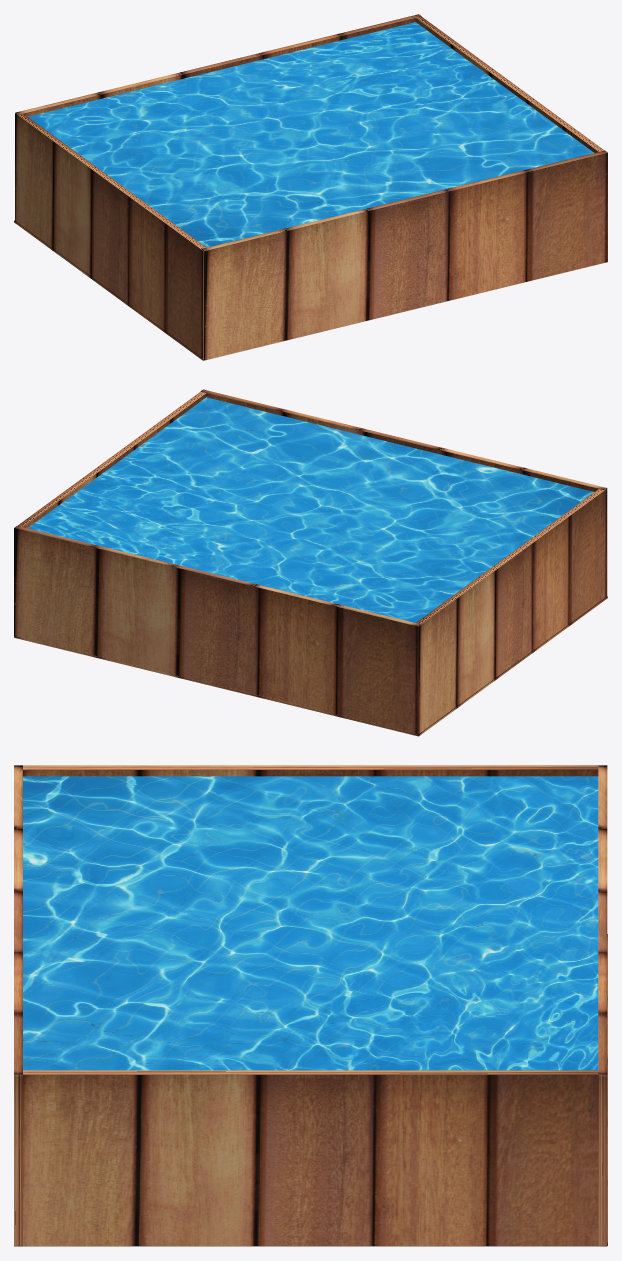
File: pool.fbx
The picture shows the model from 3 angles, top to bottom: view 1: azimuth 30°, elevation 25°; view 2: azimuth 150°, elevation 25°; view 3: azimuth 270°, elevation 25°; orthographic projection. The views are drawn at different scales.
Parts seen in each view (by area): view 1: agua; view 2: agua; view 3: agua.
Part boxes in pixels (box(x1,y1,x2,y2)): agua: box(14, 14, 607, 360); agua: box(14, 389, 607, 736); agua: box(14, 765, 607, 1246).
Size of the model in its own units: 24.11 by 29.76 by 7.7.
2 materials, 2 textured.
